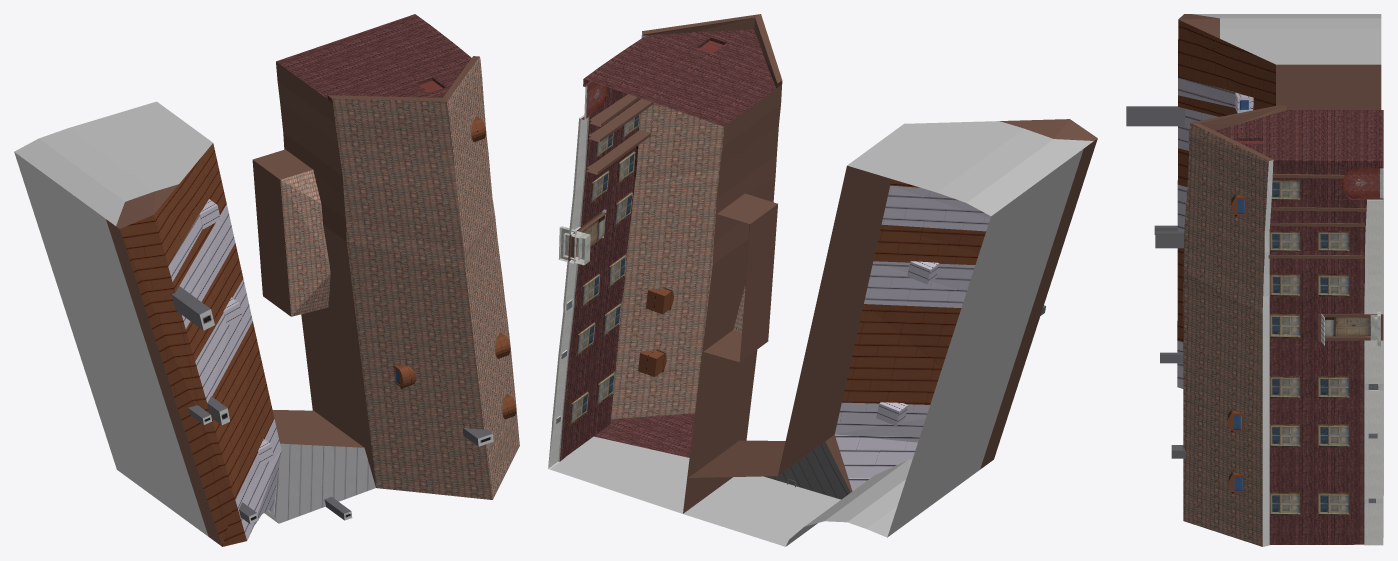
Rendered from Uus_9.obj.
3 views of the same model, side by side, from view 1: azimuth 30°, elevation 25°; view 2: azimuth 150°, elevation 25°; view 3: azimuth 270°, elevation 25° (orthographic). The views are drawn at different scales.
Parts seen in each view (by area): view 1: uus9, xxx; view 2: uus9, xxx; view 3: uus9, xxx.
Part boxes in pixels (<box>): uus9: <box>106,14,519,546</box>; xxx: <box>14,101,278,536</box>; uus9: <box>548,14,1097,513</box>; xxx: <box>550,121,1093,546</box>; uus9: <box>1126,14,1383,546</box>; xxx: <box>1192,14,1383,537</box>.
Size of the model in its own units: 29.37 by 26.75 by 15.84.
